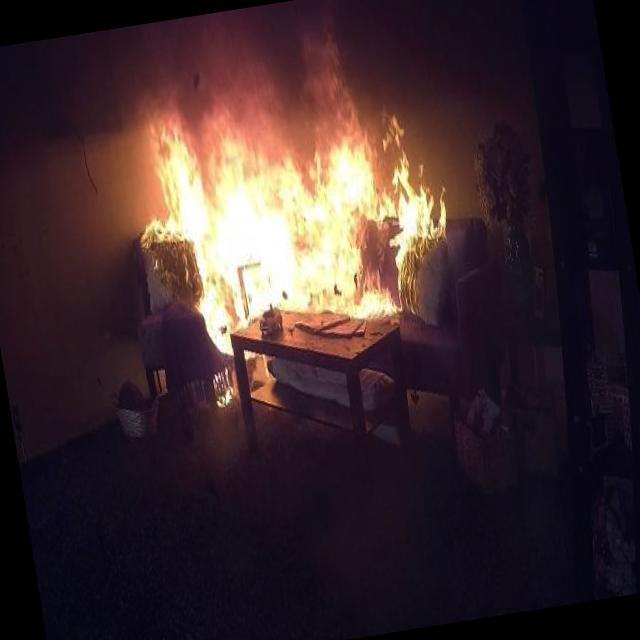Fire_Dangerous: (152, 95, 463, 384)
